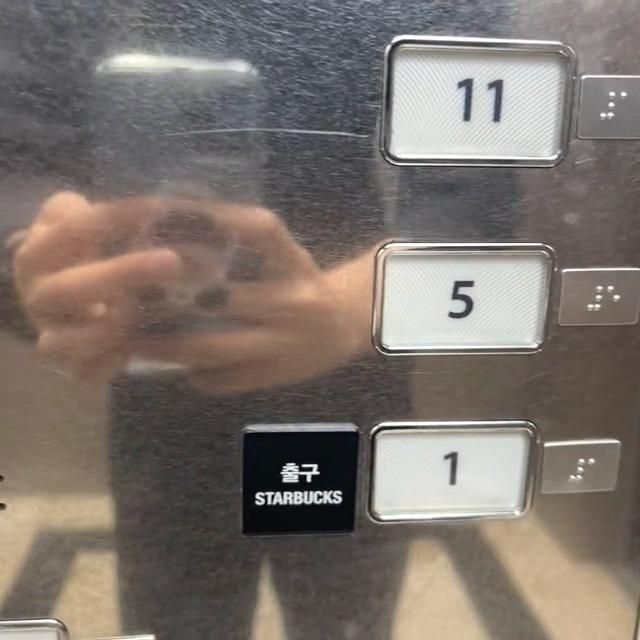button: (387, 34, 577, 177), (378, 242, 550, 356), (370, 421, 538, 523)
